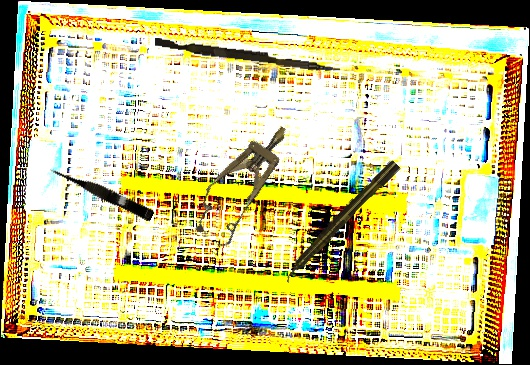Handpiece: (279, 158, 402, 285)
Micro Scissor: (48, 161, 156, 222)
Pusher: (153, 37, 342, 74)
Speculum: (183, 112, 306, 252)
